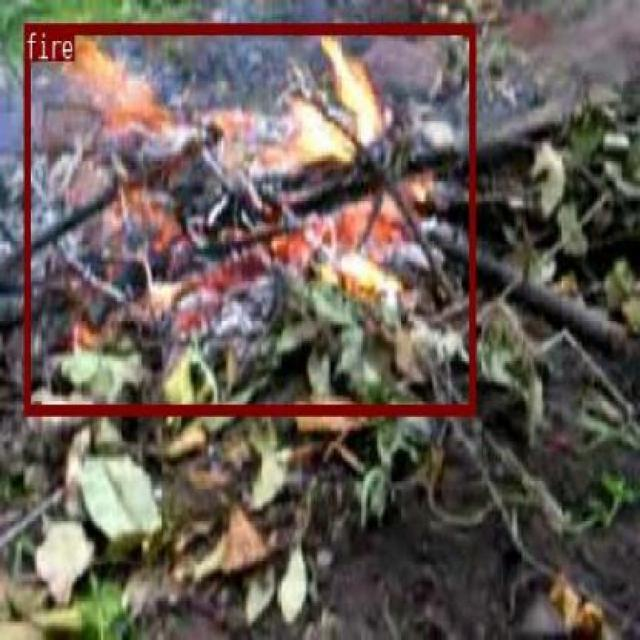Fire: (23, 21, 474, 413)
